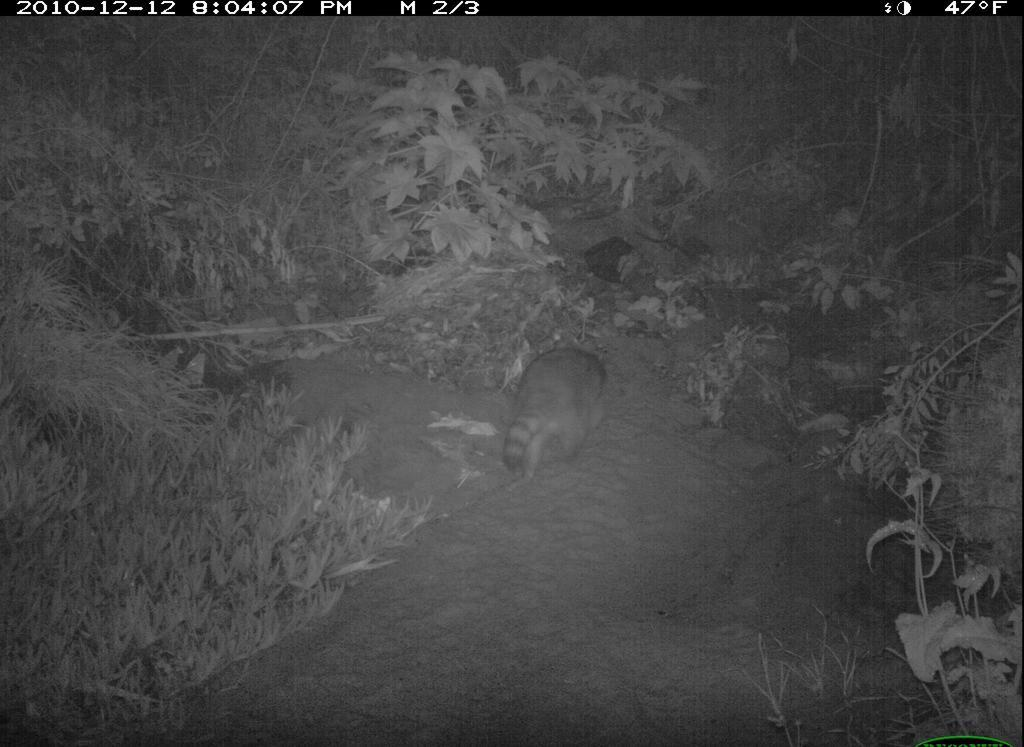raccoon: (501, 345, 611, 494)
